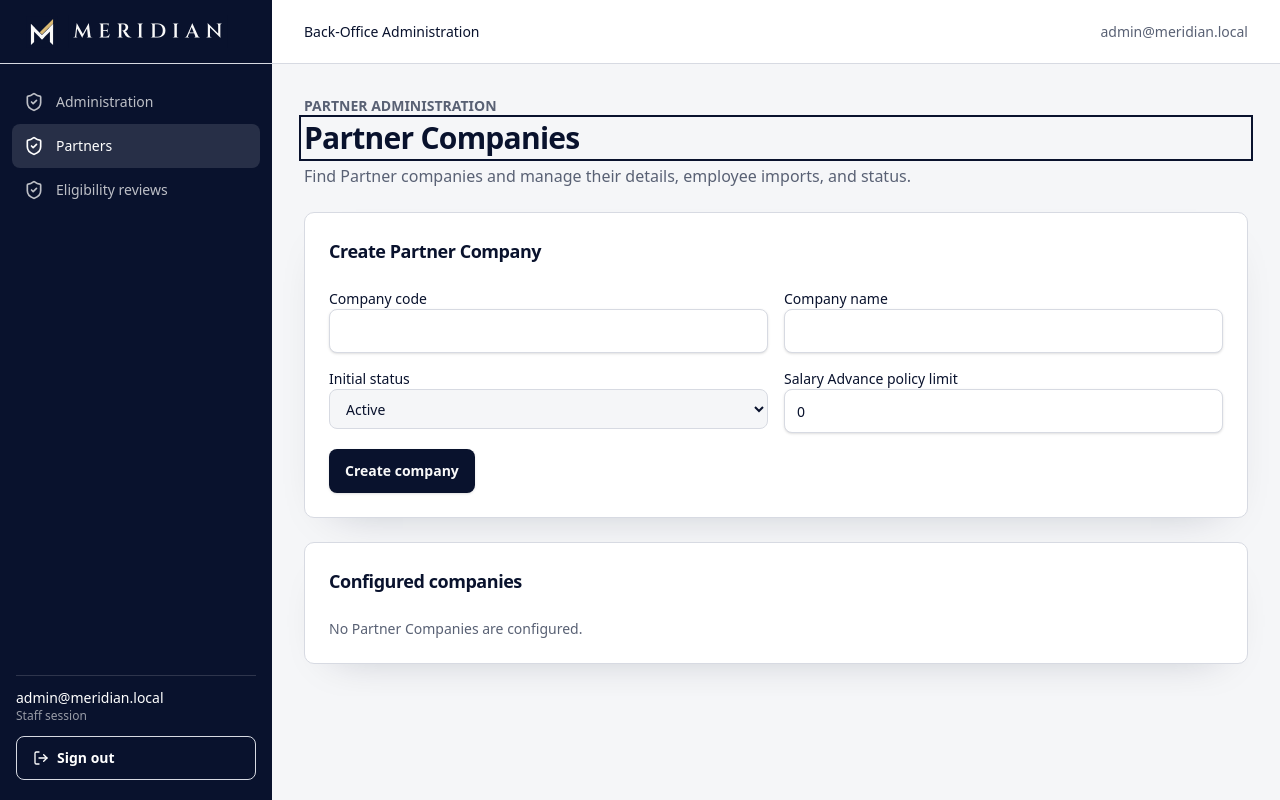
Test: Partner administration pages › shows a duplicate company code as an operator decision without the API message
Expected: the text "No Partner Companies are configured." is shown, [329, 619, 582, 638]
Step 1. Type "ACME" into the field labelled "Company code" → (548, 331), box [329, 309, 768, 353]
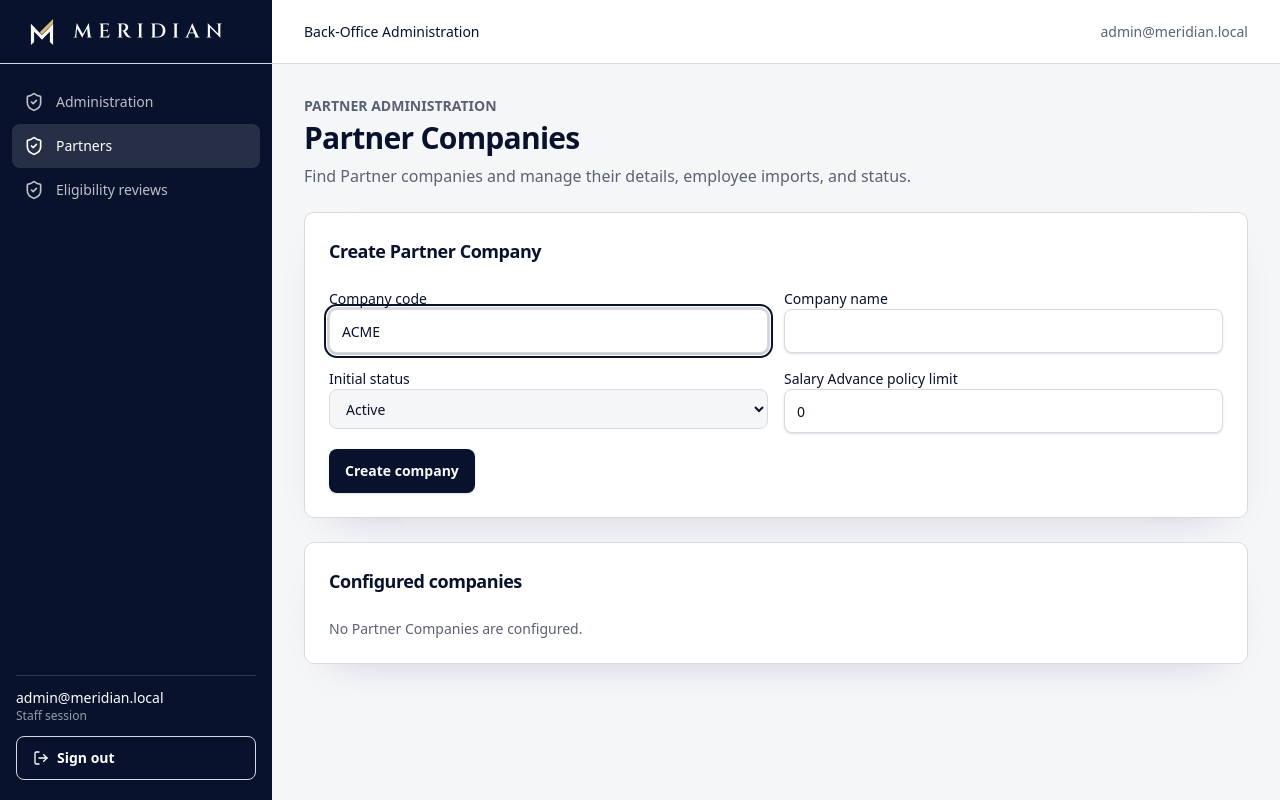
Step 2. Type "Acme Ltd" into the field labelled "Company name" → (1004, 331), box [784, 309, 1223, 353]
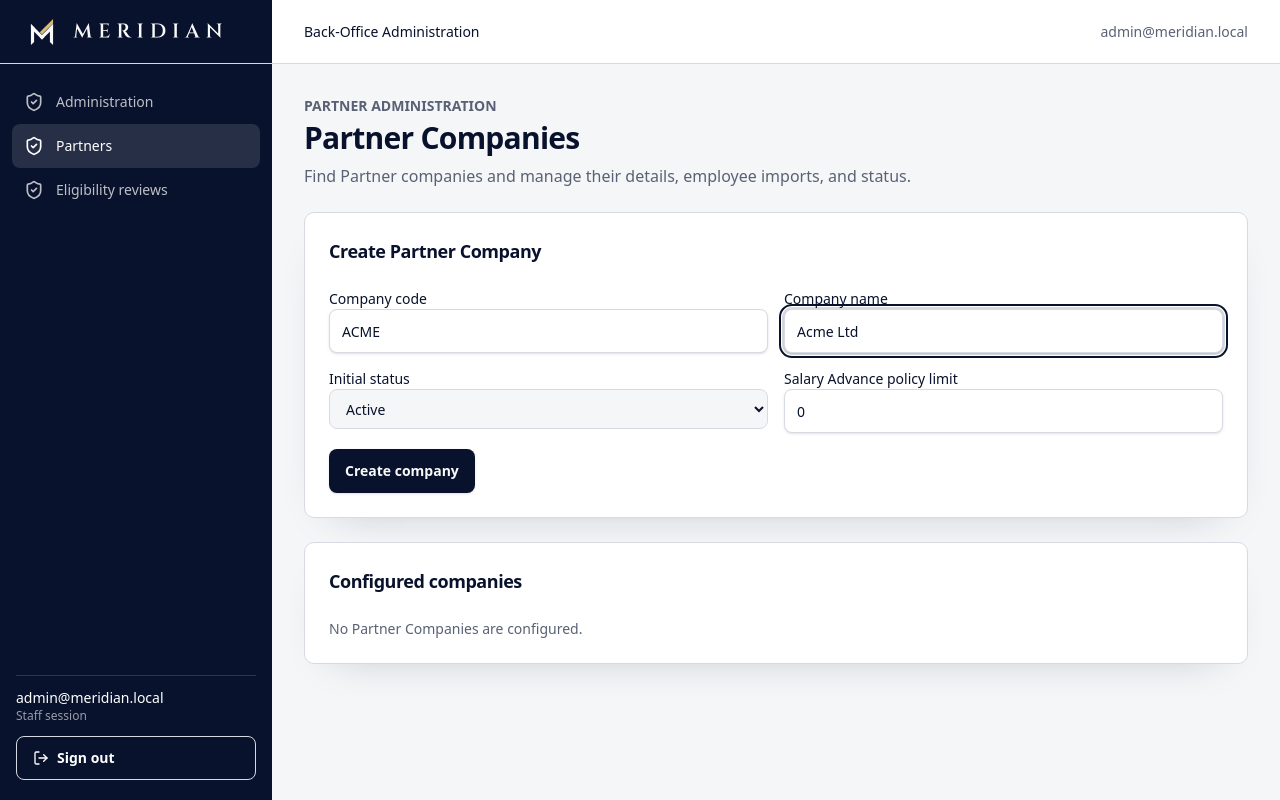
Step 3. Click the button "Create company" → (402, 471), box [329, 449, 475, 493]
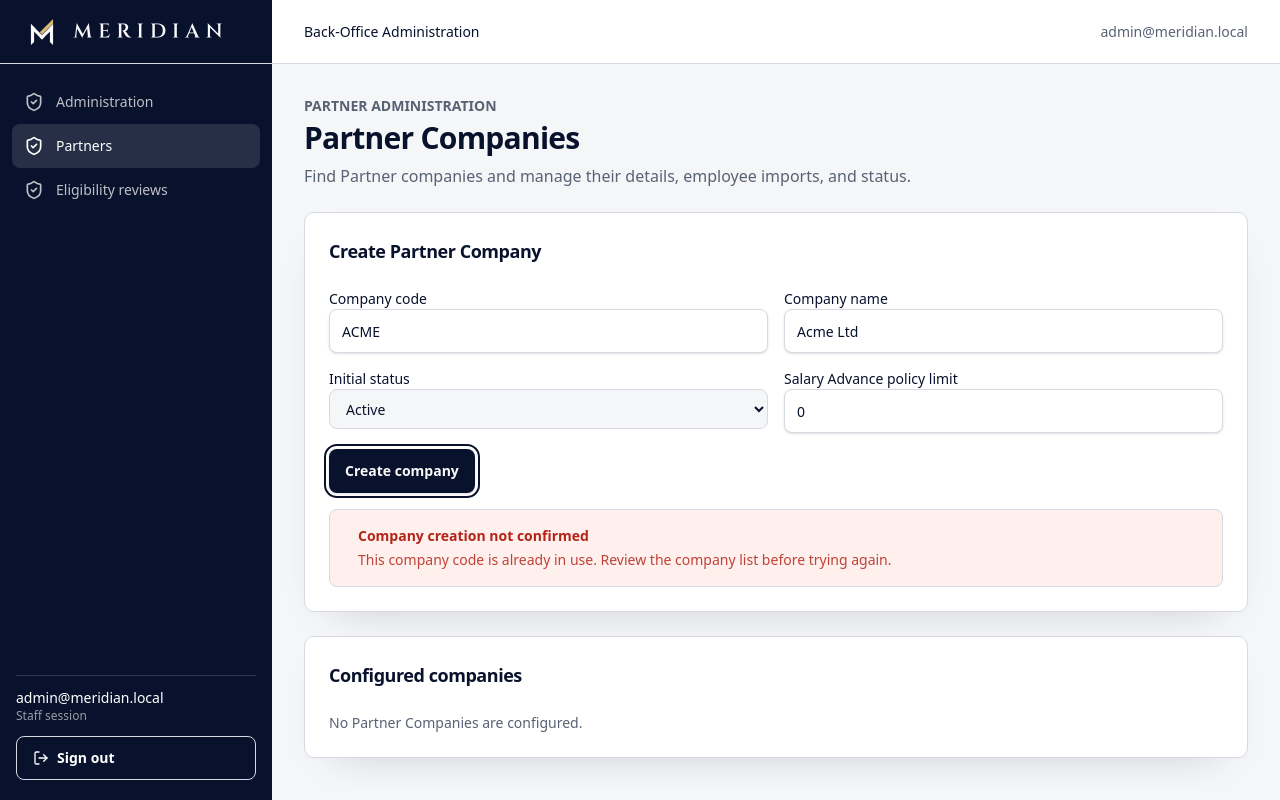
Result: the text "company code is already in use" is shown at [358, 550, 892, 569]
